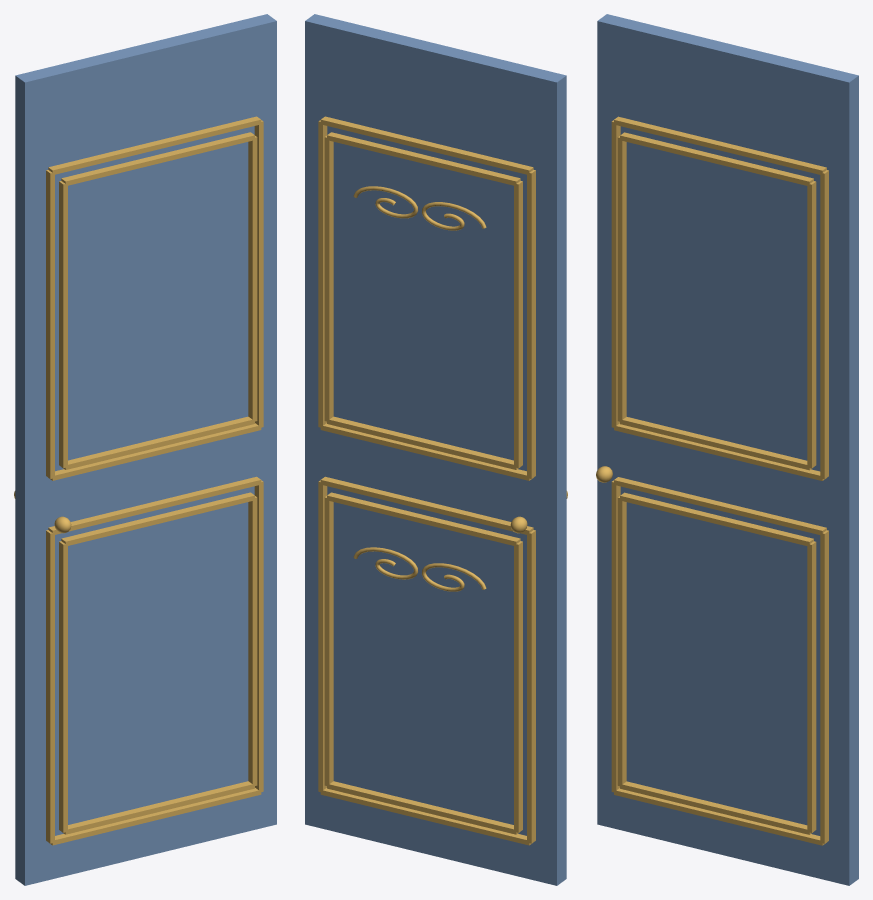
Rendered from KRM_DOOR_09_Entrance_door_hinge_RIGHT.fbx.
3 views of the same model, side by side, from view 1: azimuth 30°, elevation 25°; view 2: azimuth 150°, elevation 25°; view 3: azimuth 330°, elevation 25° (orthographic).
Parts seen in each view (by area): view 1: KRM_DOOR_09_Entrance_door_hinge_RIGHT; view 2: KRM_DOOR_09_Entrance_door_hinge_RIGHT; view 3: KRM_DOOR_09_Entrance_door_hinge_RIGHT.
Boxes of the visible parts, x1=… form: KRM_DOOR_09_Entrance_door_hinge_RIGHT: x1=14, y1=14, x2=276, y2=885; KRM_DOOR_09_Entrance_door_hinge_RIGHT: x1=305, y1=14, x2=567, y2=885; KRM_DOOR_09_Entrance_door_hinge_RIGHT: x1=596, y1=14, x2=858, y2=885.
Bounding box in the file's own units: 302 × 920 × 104.
1 material, 1 textured.
